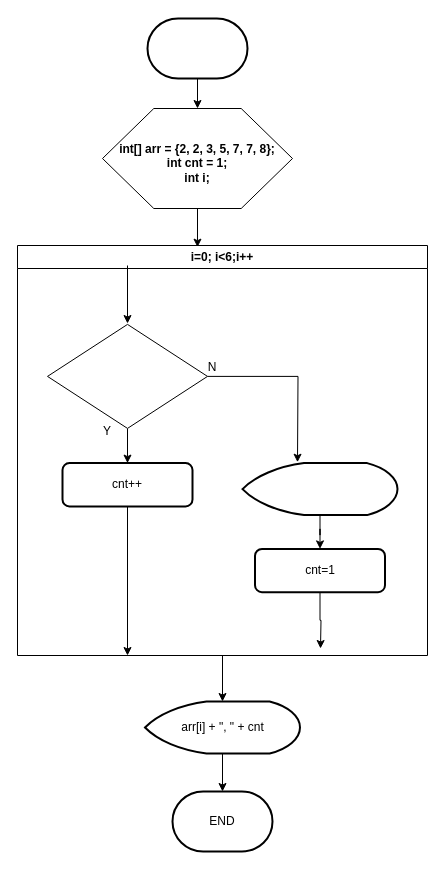
This 445x869 diagram has some shape labels left out. Each missing label, with the centre of its shape:
arr[i] + ", " + cnt+"\n": point 319,489
arr[i]==arr[i+1]: point 127,375
START: point 197,48
